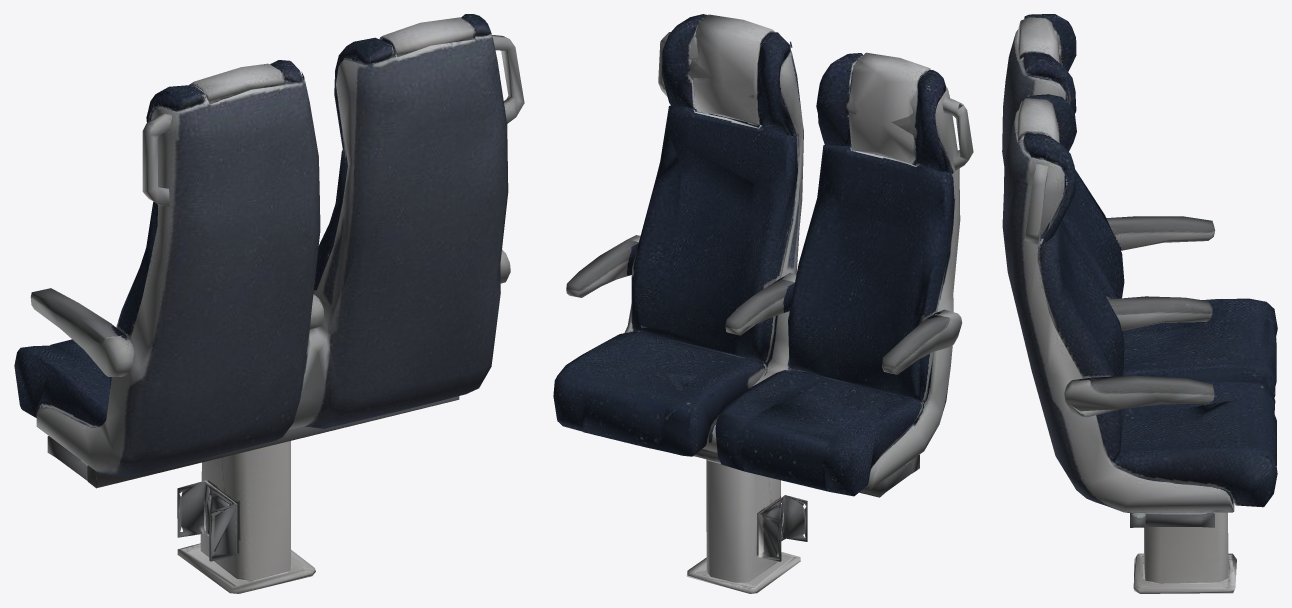
File: istuin.glb
The picture shows the model from 3 angles, left to right: view 1: azimuth 30°, elevation 25°; view 2: azimuth 150°, elevation 25°; view 3: azimuth 270°, elevation 25°; orthographic projection. The views are drawn at different scales.
Visible parts, largest first — view 1: istuin; view 2: istuin; view 3: istuin.
Boxes of the visible parts, box(x1,y1,x2,y2) form: istuin: box(14, 14, 524, 593); istuin: box(553, 14, 973, 593); istuin: box(1002, 14, 1277, 593).
Bounding box in the file's own units: 0.8773 × 1.21 × 0.6012.
Materials: 1 (1 with a texture image).
